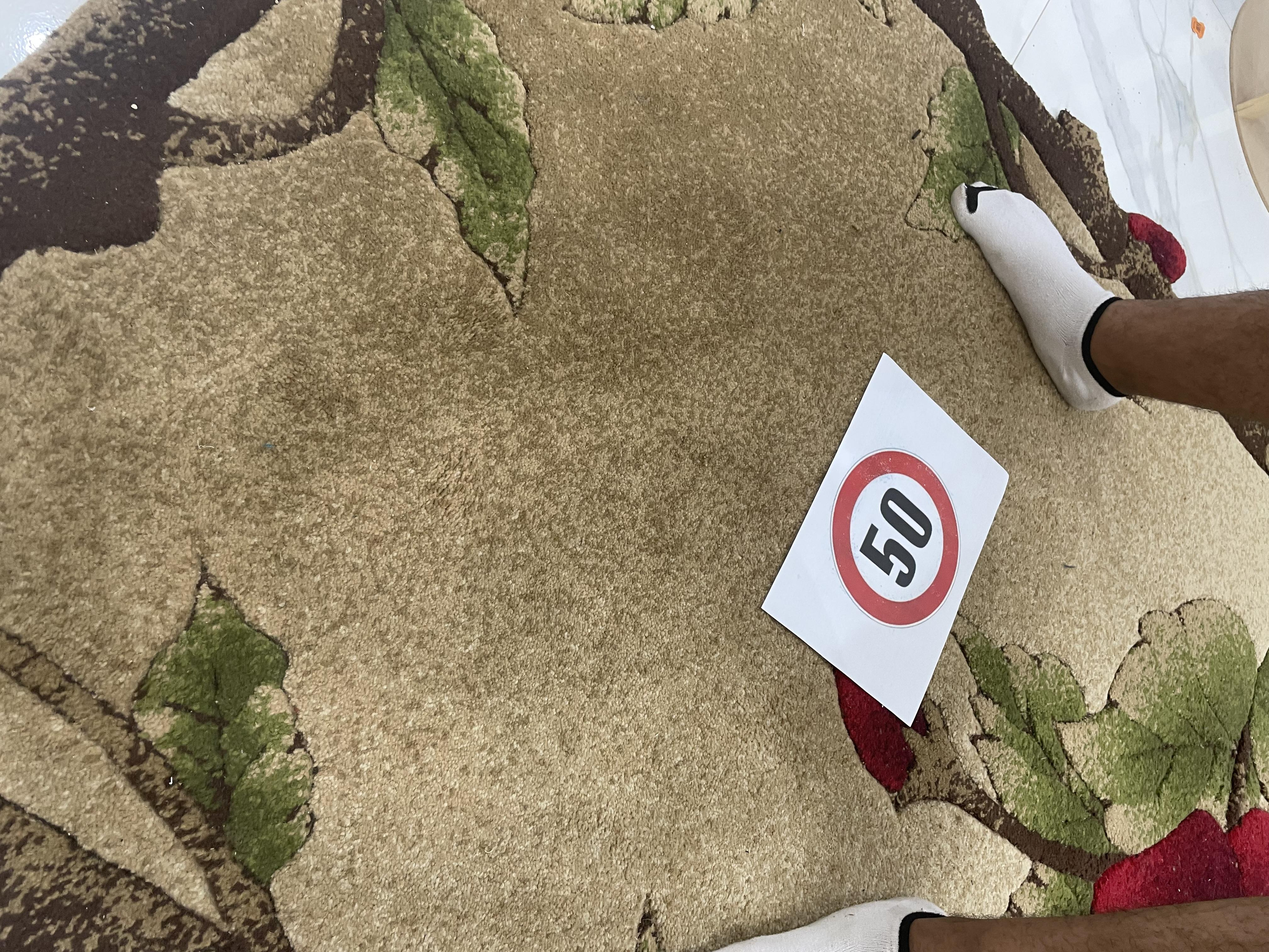50-Speed: (605, 228, 838, 329)
